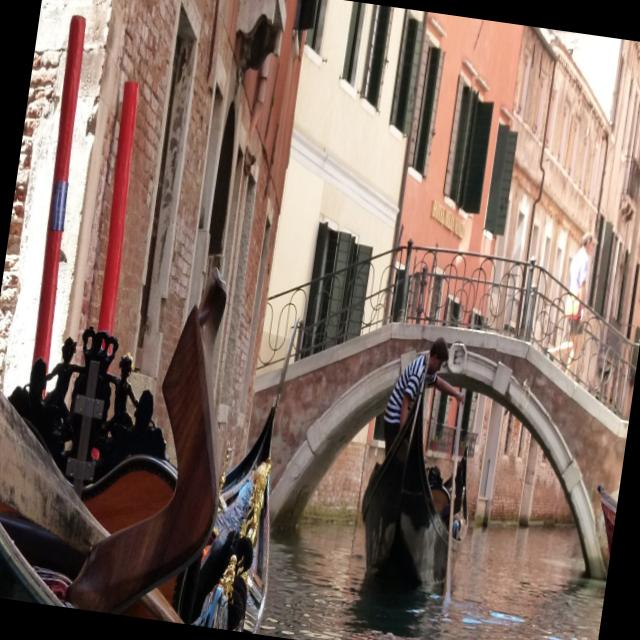boat: (340, 325, 503, 640)
